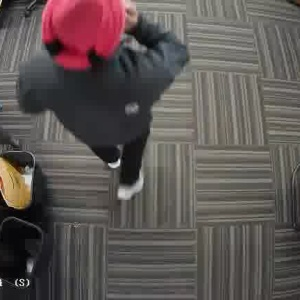person: (15, 0, 179, 168)
